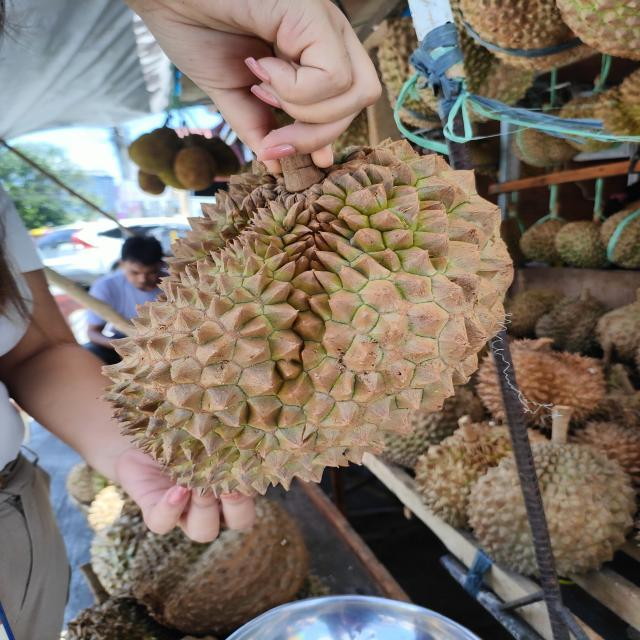mature: (103, 150, 517, 502)
